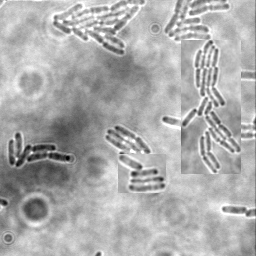Dividing: (221, 204, 248, 215)
Microcolony: (181, 40, 241, 174), (51, 1, 147, 56), (162, 1, 231, 44), (8, 130, 72, 167), (118, 154, 166, 193), (106, 124, 153, 160)
